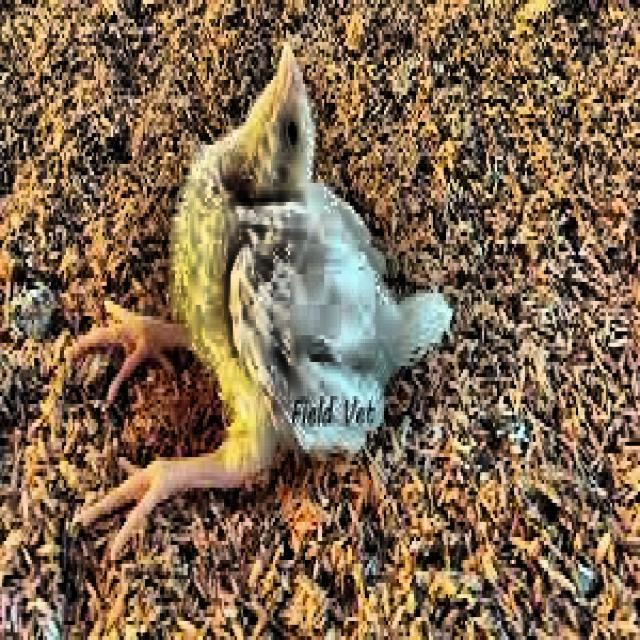Newcastle: (175, 48, 349, 242)
